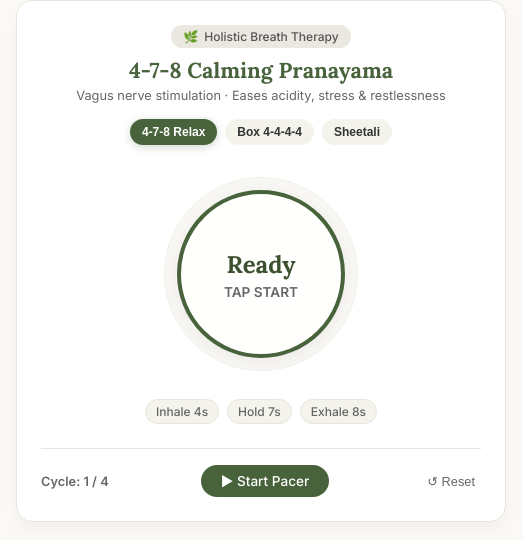
Test case: BreathingPacer Component › starts and pauses timer on toggle
# Start pacer
Click the button "▶ Start Pacer". click: click(265, 481)
box: top-left (201, 465), bottom-right (329, 497)
Wait 1000 ms
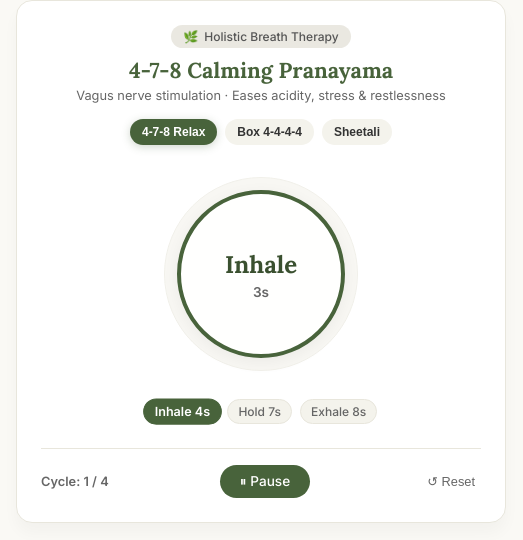
Result: the text with test id "pacer-phase" reads "Inhale" at top-left (225, 248), bottom-right (297, 280)
Result: the button "⏸ Pause" is shown
Result: the text with test id "pacer-timer" reads "3s" at top-left (253, 284), bottom-right (269, 300)
# Pause pacer
Click the button "⏸ Pause". click: click(265, 482)
box: top-left (220, 465), bottom-right (310, 498)
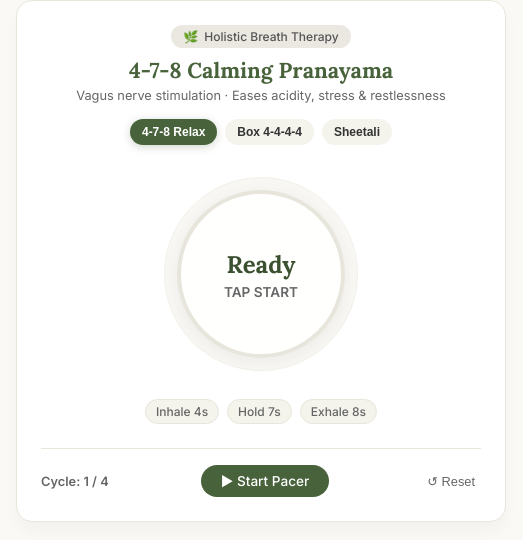
Result: the button "▶ Start Pacer" is shown at top-left (201, 465), bottom-right (329, 497)
